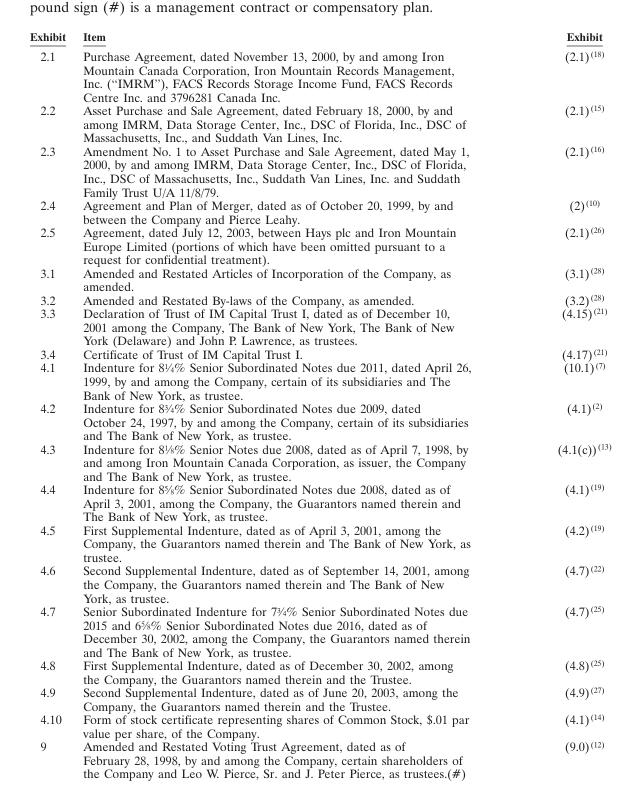table: (29, 28, 610, 780)
table column: (73, 28, 513, 780), (513, 28, 610, 780), (29, 28, 73, 780)
table column header: (29, 28, 610, 45)
table row: (29, 45, 610, 103), (29, 143, 610, 198), (29, 604, 610, 658), (29, 360, 610, 401), (29, 441, 610, 482), (29, 522, 610, 563), (29, 563, 610, 604), (29, 739, 610, 780), (29, 103, 610, 143), (29, 225, 610, 265), (29, 306, 610, 346), (29, 401, 610, 441), (29, 482, 610, 522), (29, 198, 610, 225), (29, 265, 610, 292), (29, 658, 610, 685), (29, 685, 610, 712), (29, 712, 610, 739), (29, 28, 610, 45), (29, 292, 610, 306), (29, 346, 610, 360)
